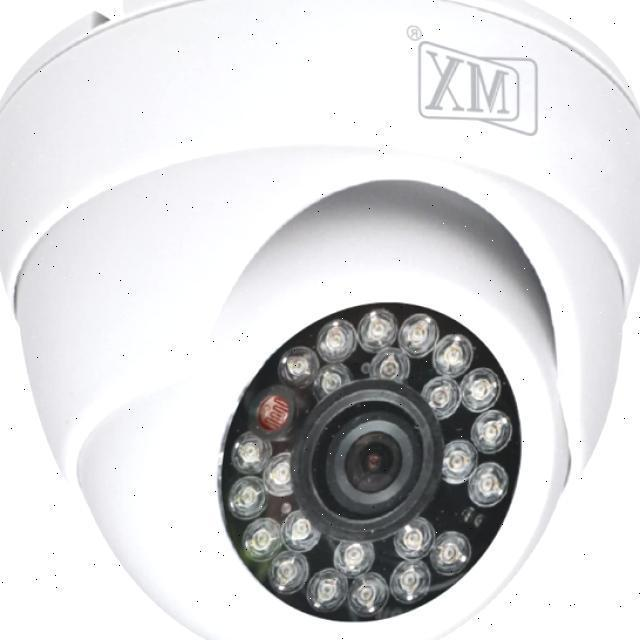cctv: (15, 73, 640, 640)
